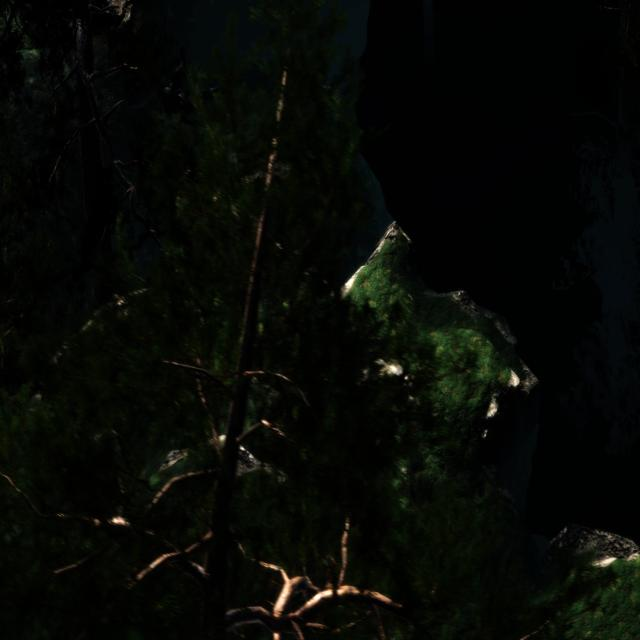Human: (154, 55, 215, 118)
